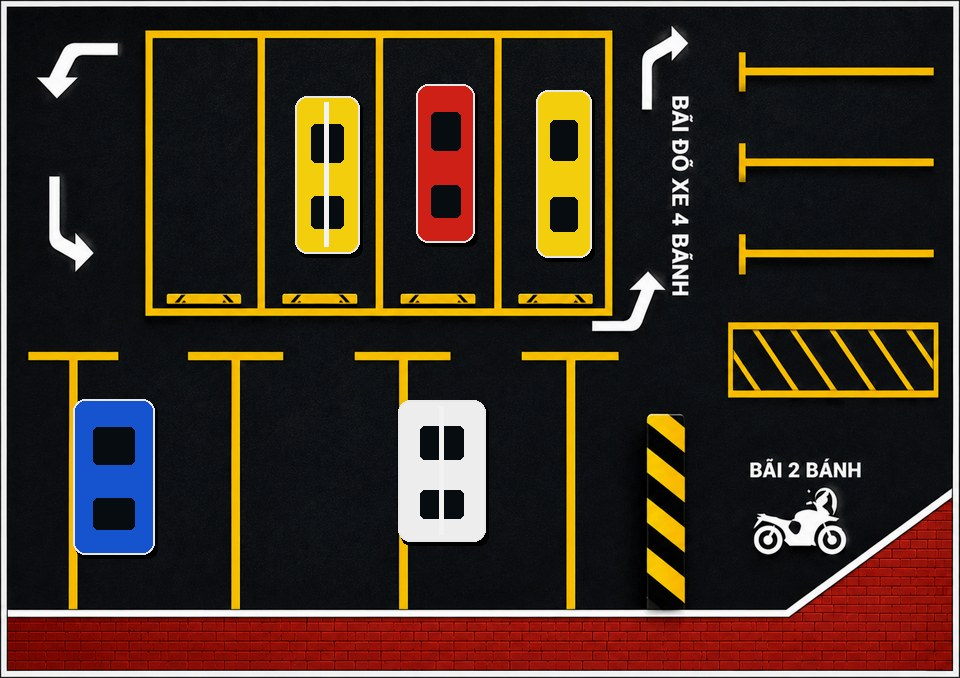empty: (201, 351, 357, 598), (524, 351, 672, 598), (148, 35, 267, 309)
occupied: (35, 351, 199, 598), (360, 351, 518, 598), (267, 35, 386, 309), (386, 35, 505, 309), (505, 35, 624, 309)
